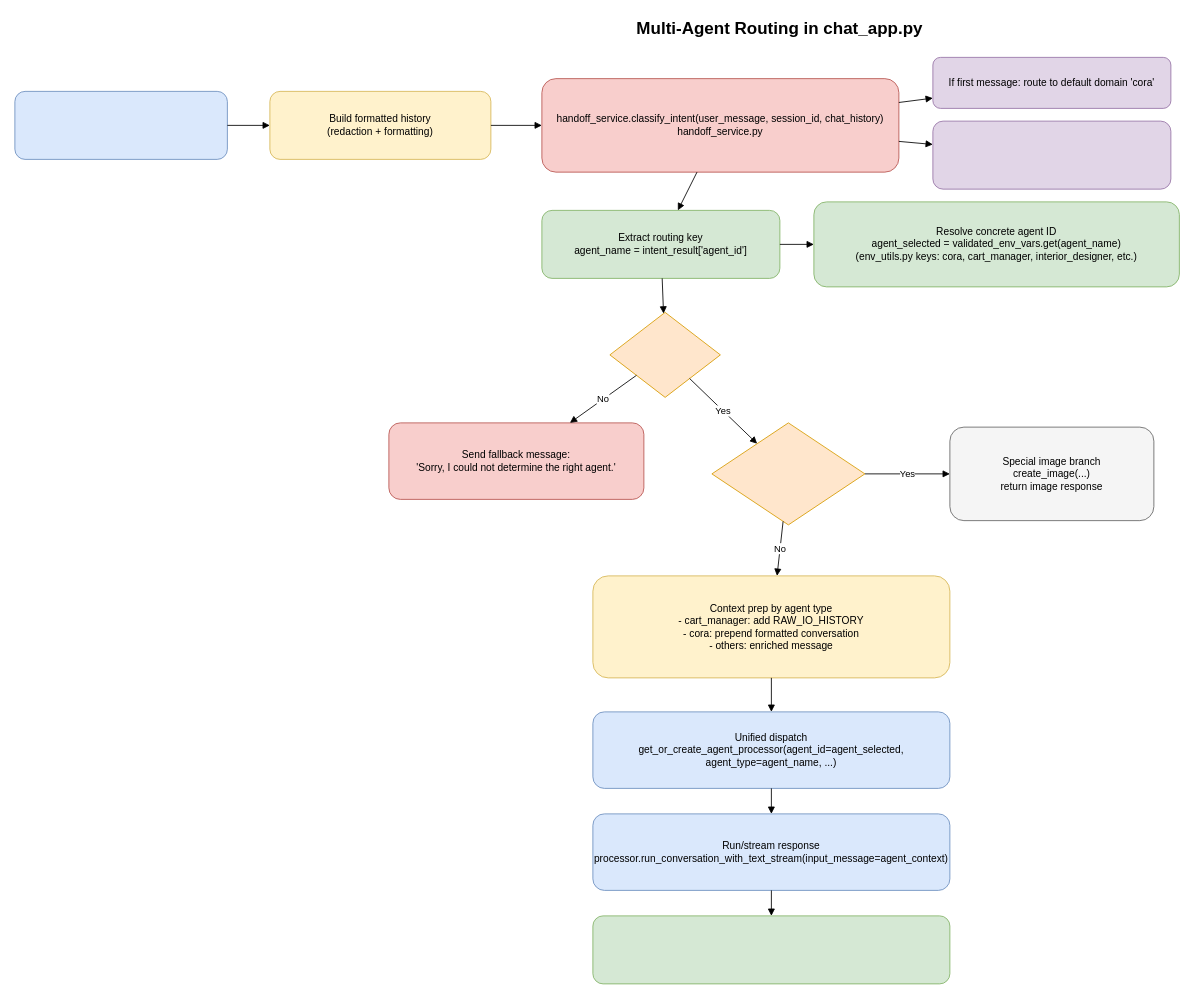
This 1194x999 diagram has some shape labels left out. Each missing label, with the centre of its shape:
Agent found?: pixel 664 354
agent_name == interior_designer_create_image ?: pixel 788 473
Otherwise classify via LLM response.output_text -> intent.domain: pixel 1051 154
Parse response + persist cart/discount + send websocket response: pixel 771 949
WebSocket message received chat_app.py (/ws loop): pixel 120 125
